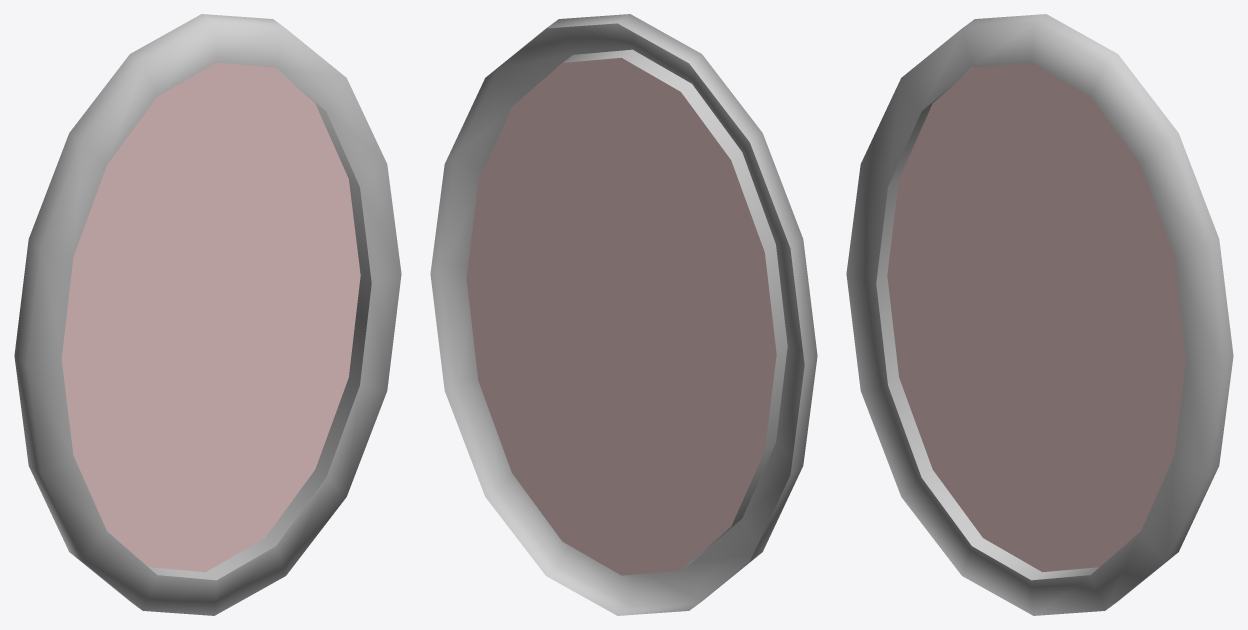
Rendered from painting_oval.obj.
3 views of the same model, side by side, from view 1: azimuth 30°, elevation 25°; view 2: azimuth 150°, elevation 25°; view 3: azimuth 330°, elevation 25° (orthographic).
Visible parts, largest first — view 1: Cylinder.130; view 2: Cylinder.130; view 3: Cylinder.130.
Boxes of the visible parts, x1,y1,x2,y2 form: Cylinder.130: [14, 14, 401, 615]; Cylinder.130: [430, 14, 817, 615]; Cylinder.130: [846, 14, 1233, 615].
Bounding box in the file's own units: 0.6191 × 0.9367 × 0.0434.
